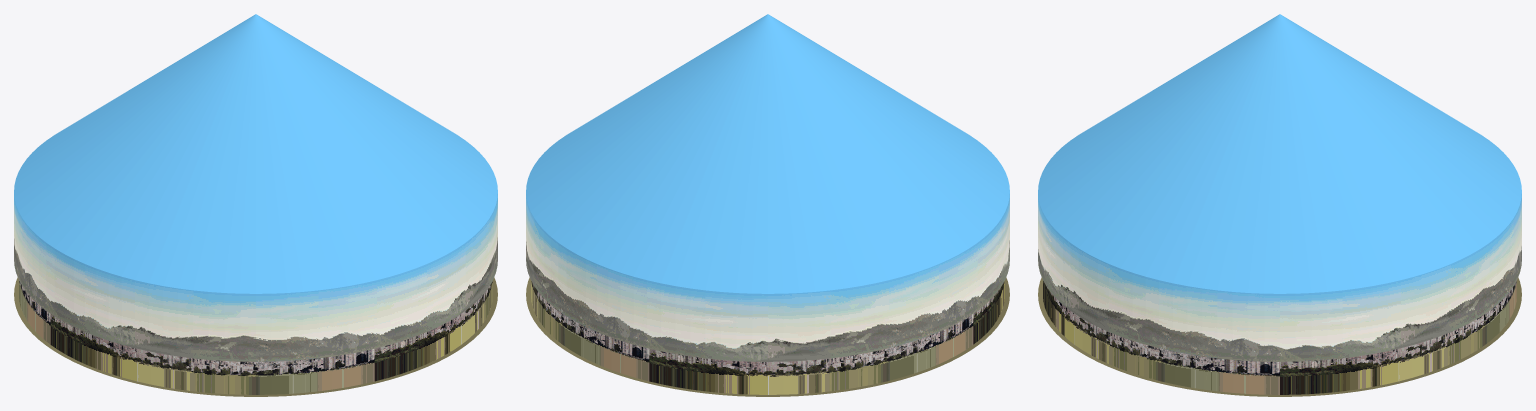
Rendered from sky-cy3.glb.
3 views of the same model, side by side, from view 1: azimuth 30°, elevation 25°; view 2: azimuth 150°, elevation 25°; view 3: azimuth 270°, elevation 25° (orthographic).
Parts seen in each view (by area): view 1: sky-cy3; view 2: sky-cy3; view 3: sky-cy3.
Part boxes in pixels (bbox=[...]): sky-cy3: bbox=[14, 14, 497, 396]; sky-cy3: bbox=[526, 14, 1009, 396]; sky-cy3: bbox=[1038, 14, 1521, 396].
Bounding box in the file's own units: 2 × 1.7 × 2.
4 materials, 4 textured.
